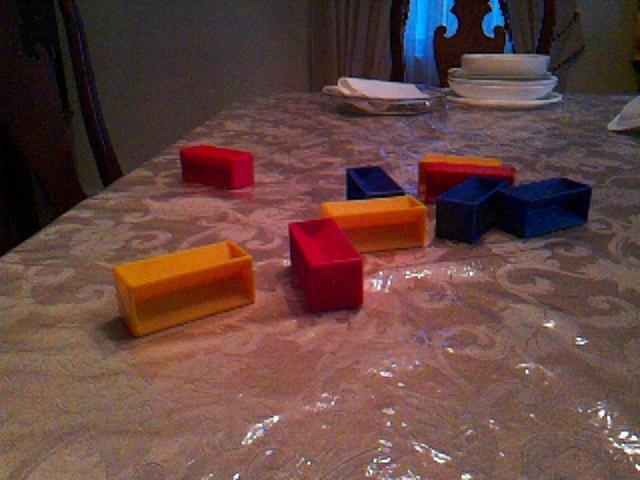blue: (496, 175, 593, 239), (434, 174, 509, 244), (344, 163, 407, 201)
red: (287, 216, 365, 313), (426, 163, 517, 204), (179, 143, 256, 191)
yellow: (112, 238, 258, 338), (320, 194, 429, 253), (418, 153, 505, 196)
